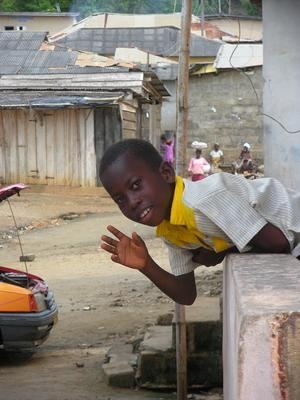person: (99, 139, 300, 309)
